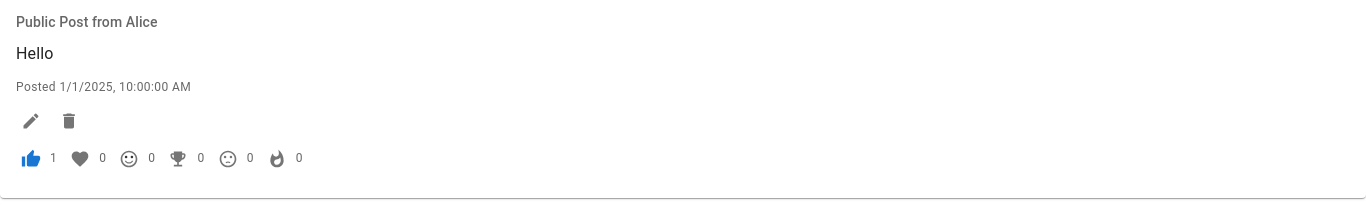
Test case: PostCard › switching reaction decrements previous and increments new
The width and height of the screenshot is (1366, 217).
Click the button named "Love".
click(80, 159)  # box [65, 144, 95, 174]
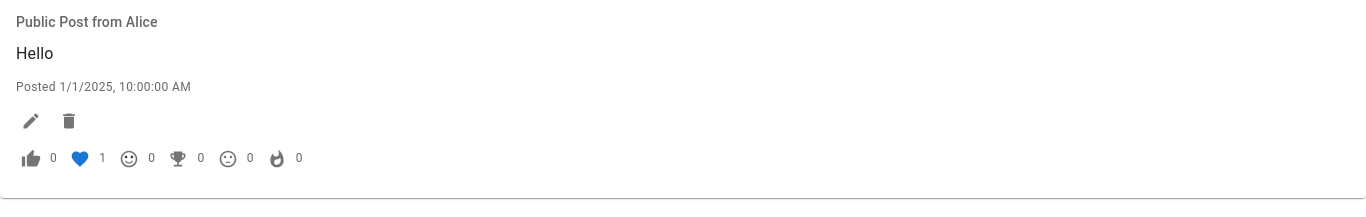
Expected: the text "1" is shown, [99, 149, 106, 169]
Expected: the 1st text "0" is shown, [50, 149, 57, 169]
